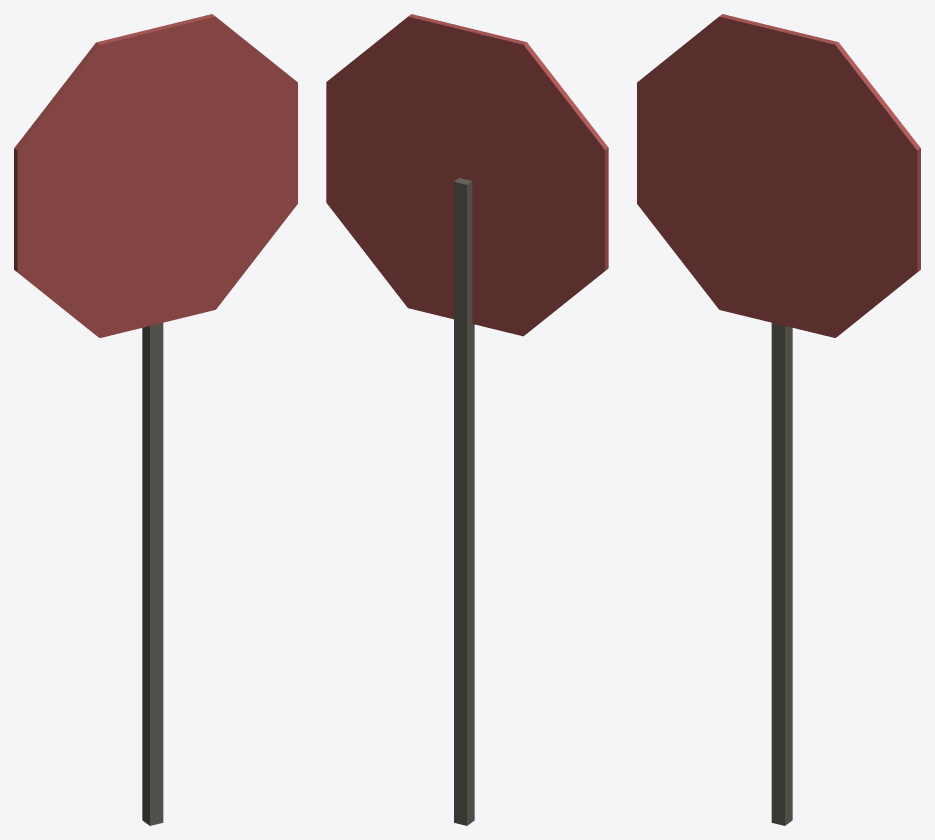
The model's file is OctogonRoadSign.fbx.
The picture shows the model from 3 angles, left to right: view 1: azimuth 30°, elevation 25°; view 2: azimuth 150°, elevation 25°; view 3: azimuth 330°, elevation 25°; orthographic projection.
Parts seen in each view (by area): view 1: Cylinder.002, Cube; view 2: Cylinder.002, Cube; view 3: Cylinder.002, Cube.
Part boxes in pixels (x1=…): Cylinder.002: x1=14, y1=14, x2=297, y2=337; Cube: x1=142, y1=323, x2=163, y2=825; Cylinder.002: x1=326, y1=14, x2=608, y2=336; Cube: x1=454, y1=178, x2=474, y2=825; Cylinder.002: x1=637, y1=14, x2=920, y2=337; Cube: x1=771, y1=323, x2=792, y2=825.
Bounding box in the file's own units: 148 × 400 × 7.99.
